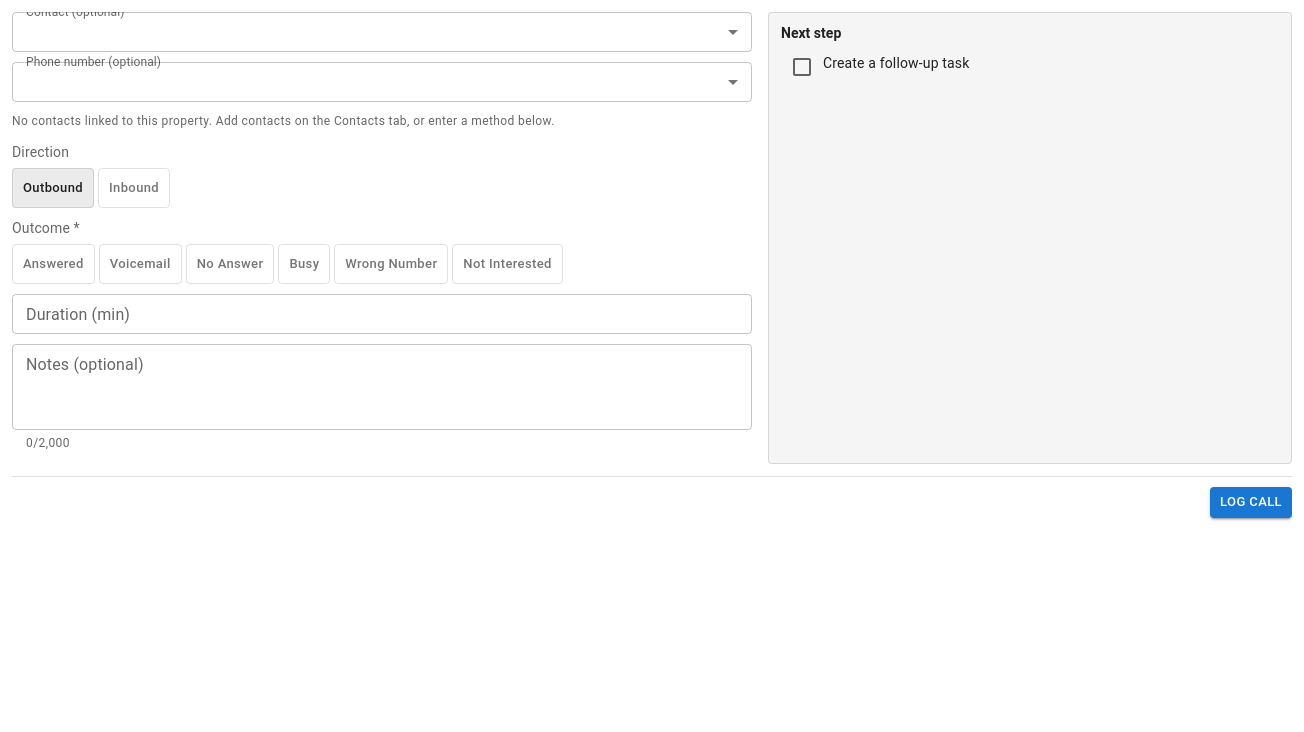
LogActivityForm — mode="call" (parity with former LogCallForm) › validates duration range (1–999)
The width and height of the screenshot is (1304, 732).
Click the button with test id "call-outcome-answered". click: click(53, 264)
box: [12,244,95,284]
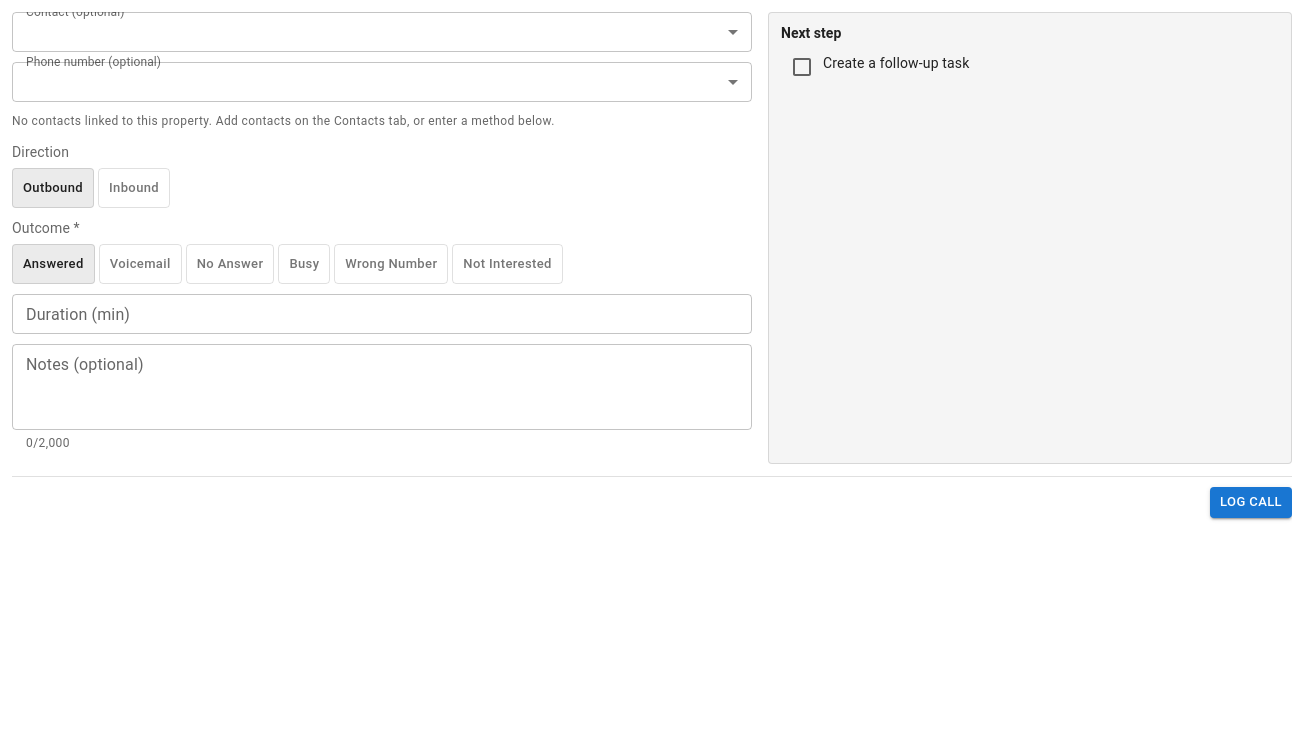
Type "0" into the number field with test id "call-duration-input". click: (382, 314)
box: [12,294,752,334]
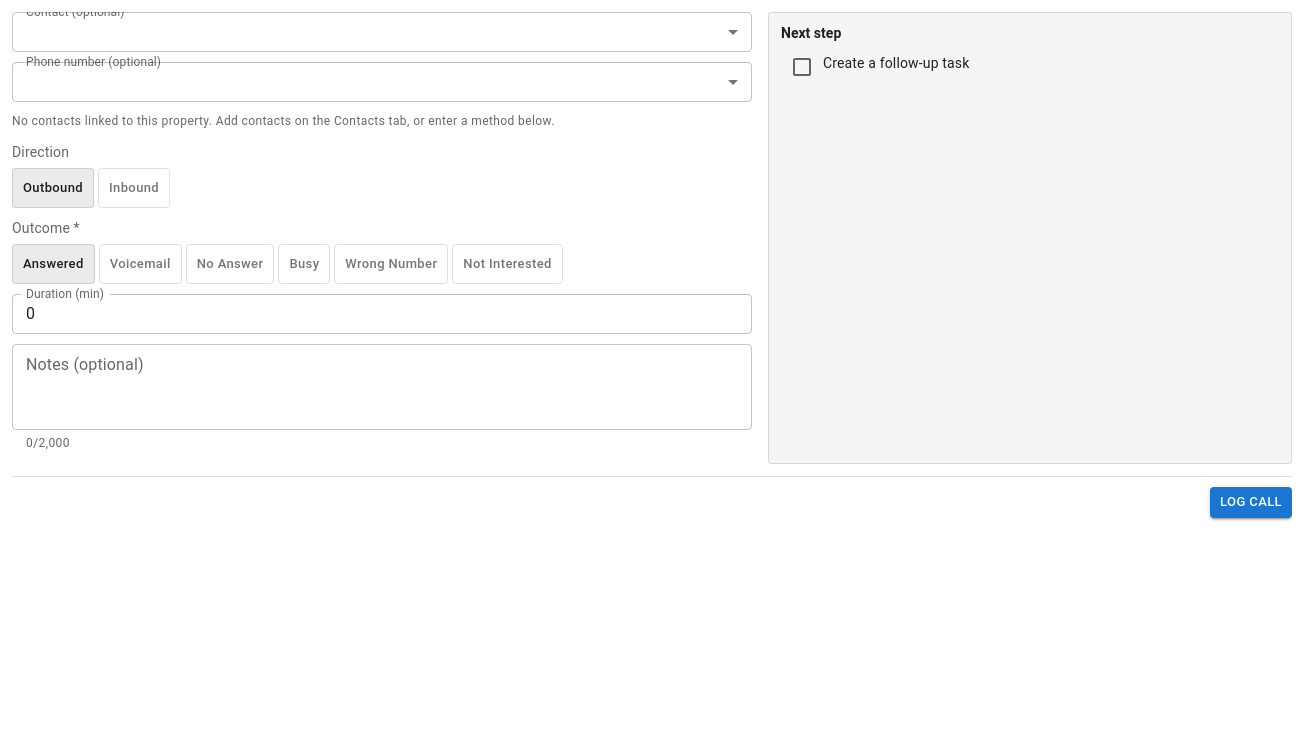
Submit the form with test id "log-call-form"
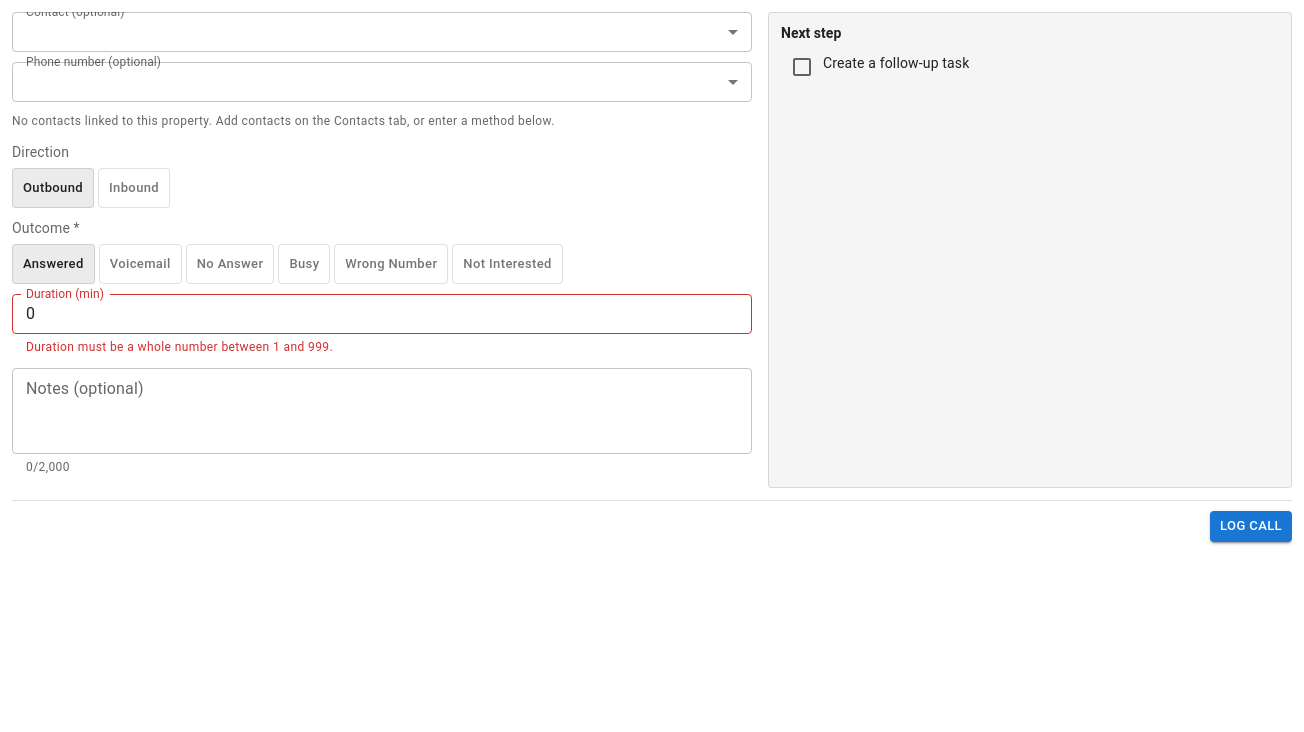
Expected: the text with test id "call-duration-error" reads "Duration must be a whole number between 1 and 999.", [26,340,333,354]
